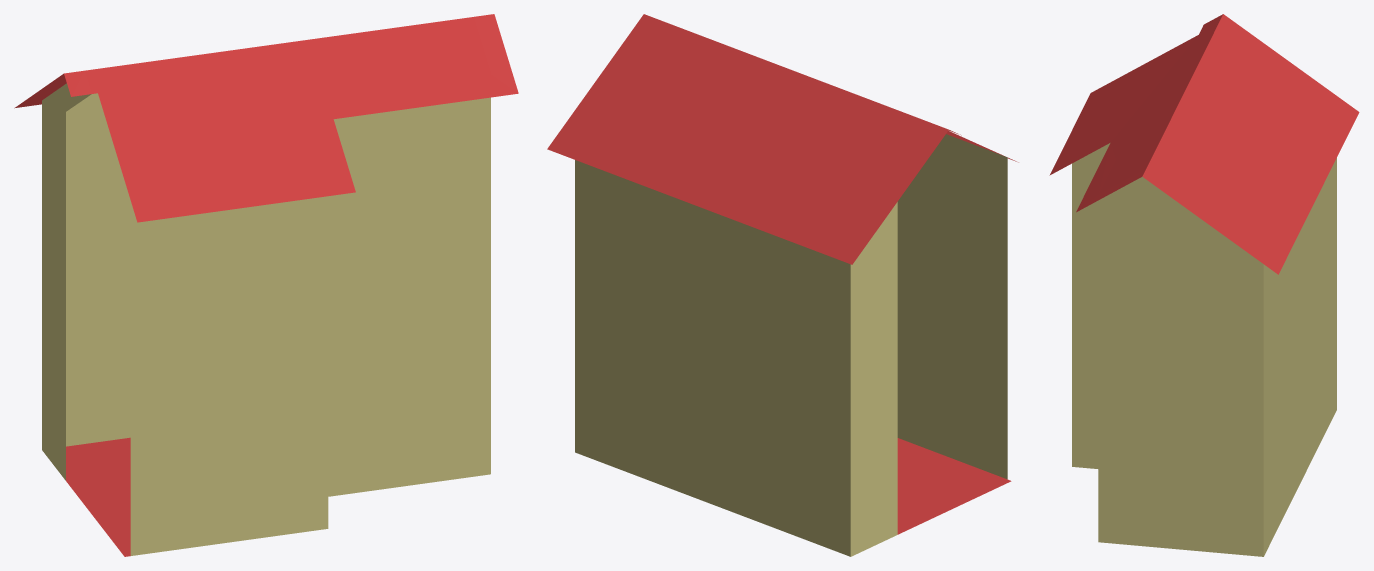
3 views of the same model, side by side, from view 1: azimuth 30°, elevation 25°; view 2: azimuth 150°, elevation 25°; view 3: azimuth 270°, elevation 25° (orthographic). The views are drawn at different scales.
Bounding box in the file's own units: 10.96 × 8.13 × 10.92.
